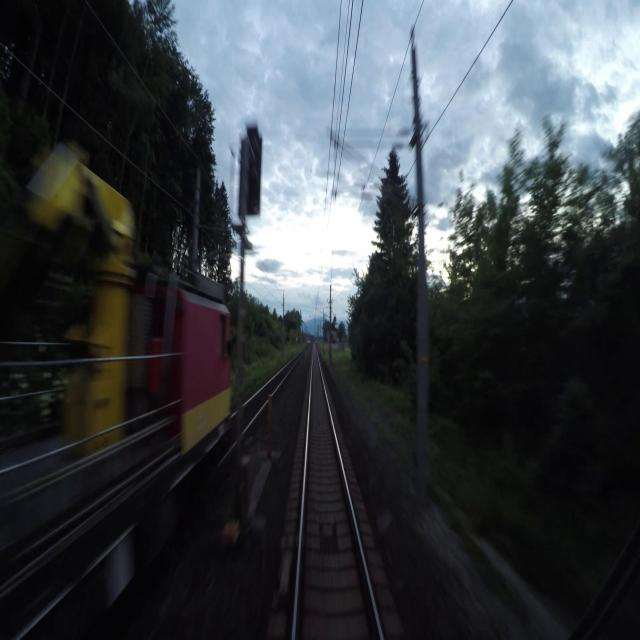rail-track: (296, 351, 378, 639), (233, 361, 293, 437)
